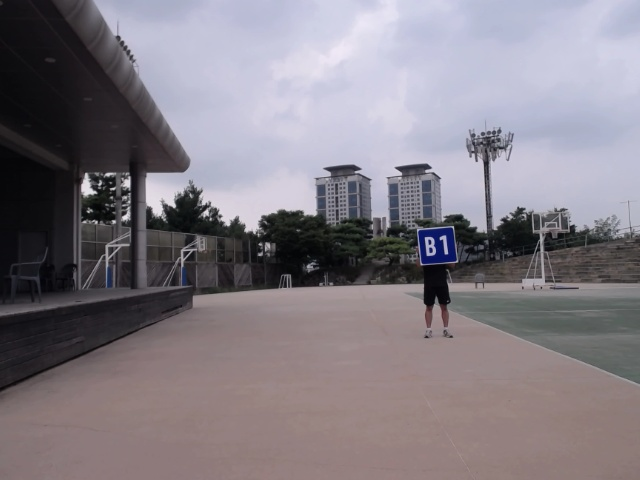delivery_b1: (418, 227, 457, 265)
